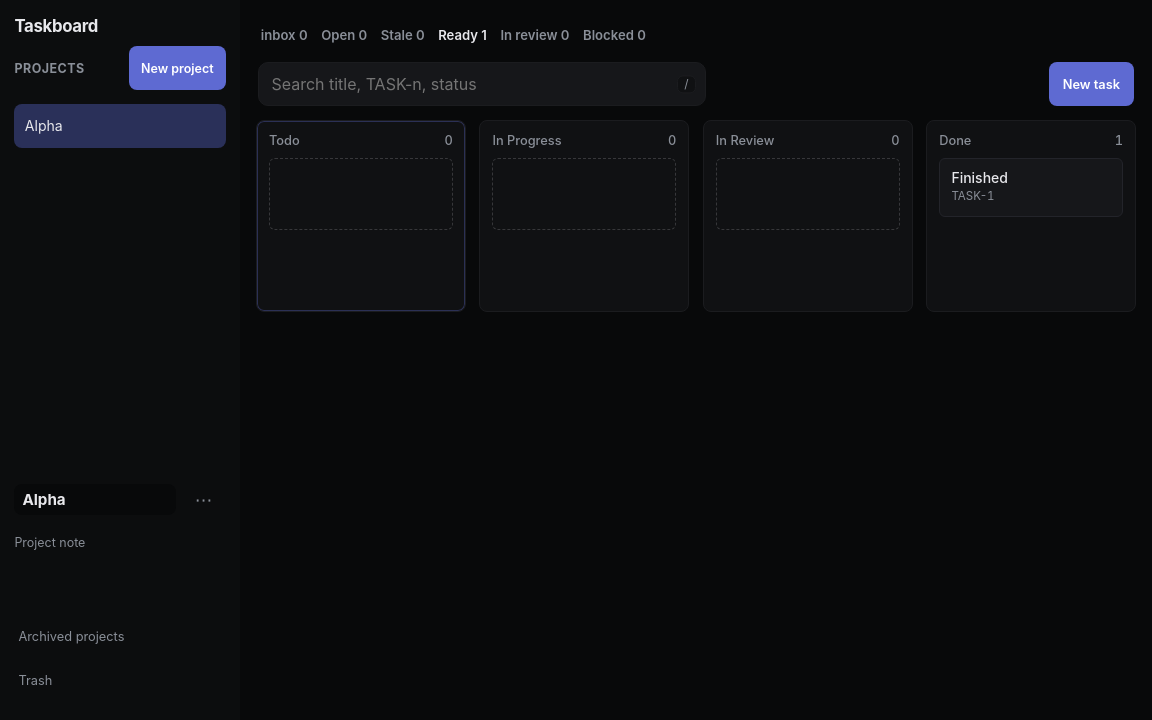
Test: Board › collapses and expands the Done column for the session
Expected: the list item "Finished TASK-1" is shown, [939,158,1123,217]
Click the button "Done".
click(955, 140)  # box [939,133,971,148]
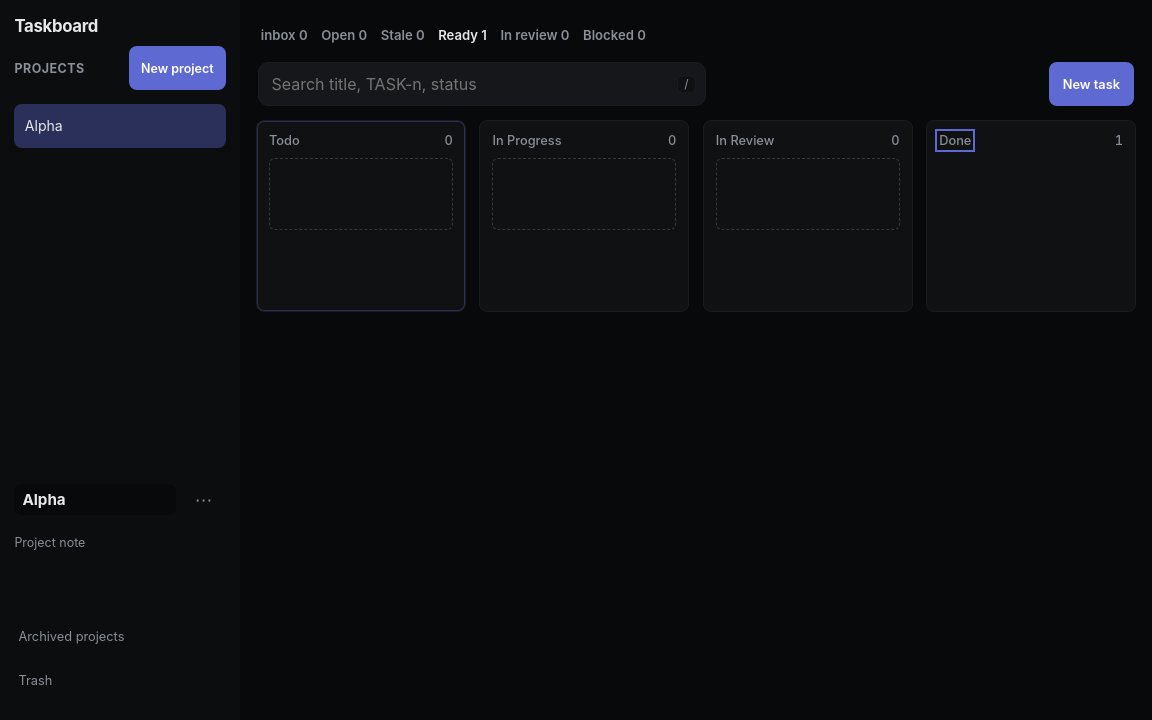
Result: the text "Finished" is gone
Result: the text "Done" no longer shows "Finished"
Click the button "Done".
click(955, 140)  # box [939,133,971,148]
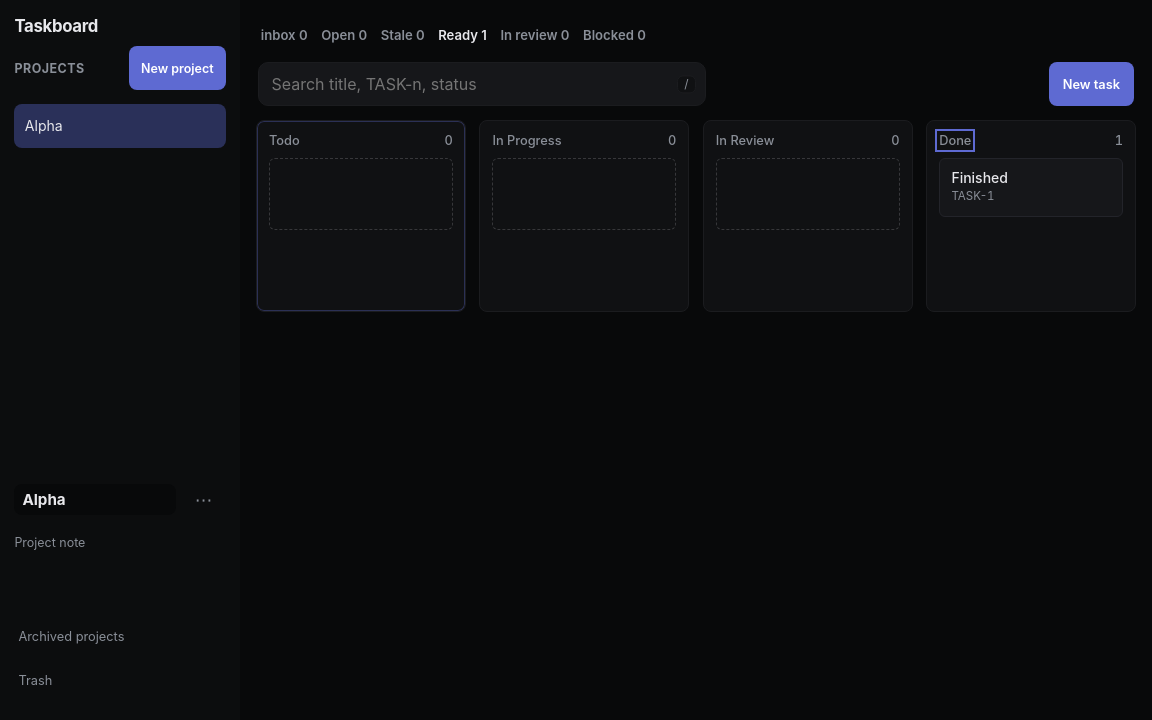
Result: the list item "Finished TASK-1" is shown at [939,158,1123,217]
